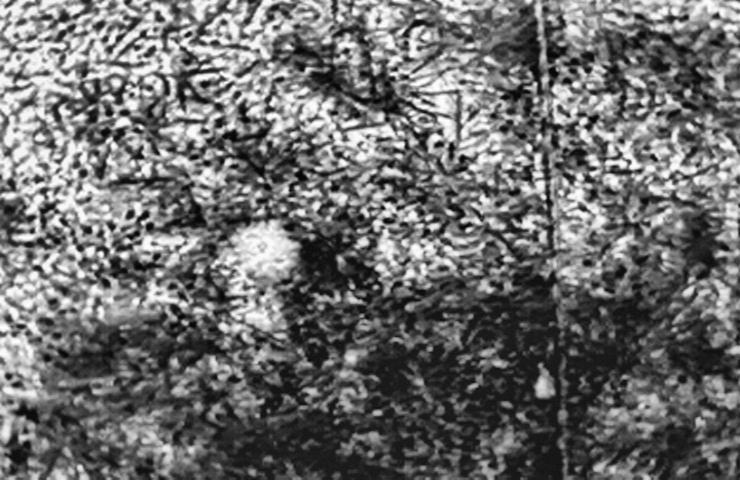landmines: (227, 214, 304, 287)
